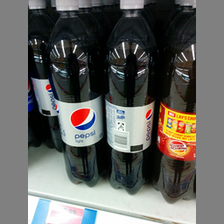soda: (47, 1, 107, 188), (103, 1, 159, 196), (151, 1, 195, 204)
